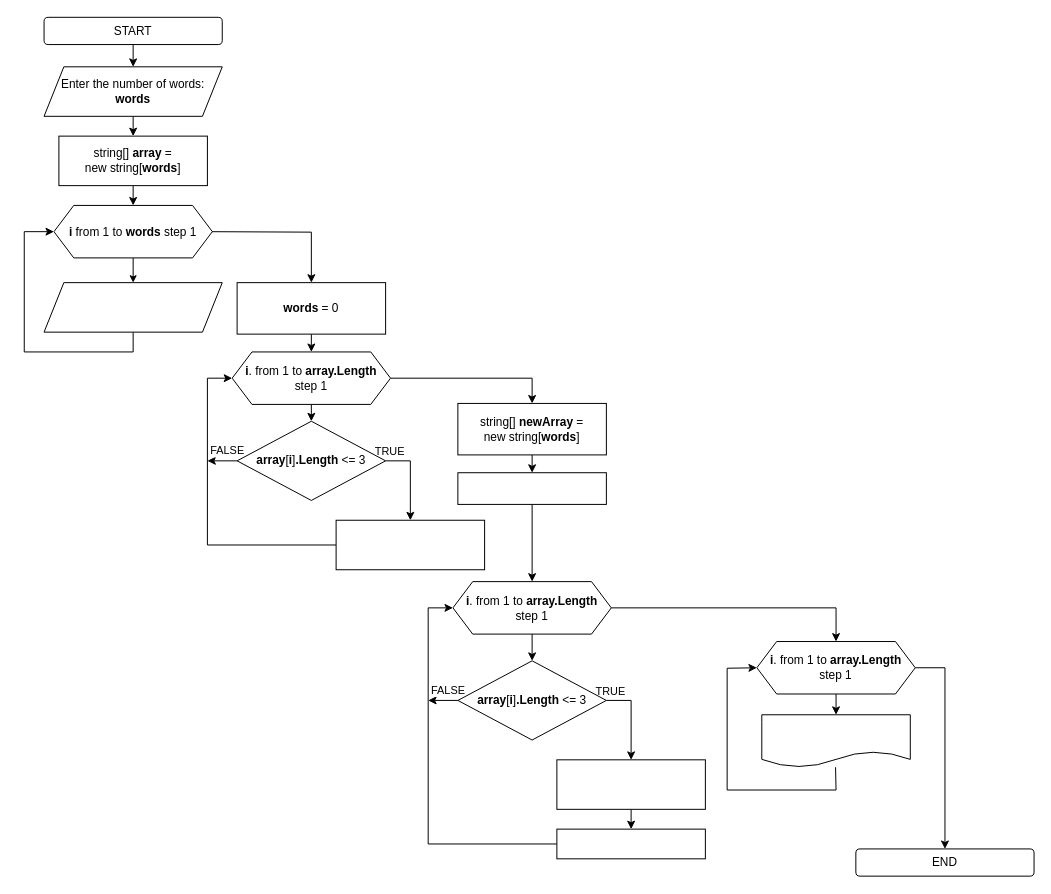
Image size: 1051x894. Some labels were removed from this diagram. The centre of each missing label's shape, as x and y in pixels:
Enter the word: array [ i ]: pixel 132 307
n ++: pixel 630 843
n = 0: pixel 531 488
newArray [ i ]: pixel 835 740
newArray [ n ] = array [ i ]: pixel 630 784
words ++: pixel 410 544
